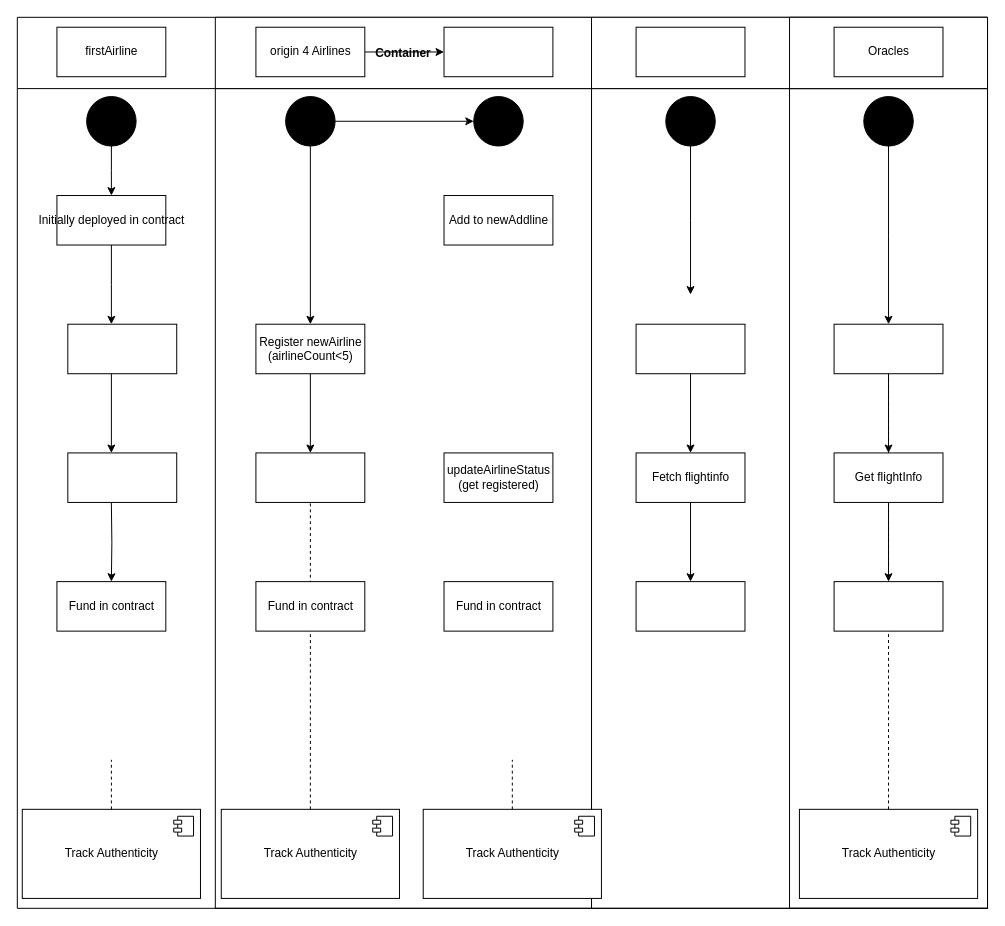
Some shapes in this 1005 by 926 pixel diagram are drawn without their labels. Each missing label, with the centre of its shape:
"Buy insuree" belongs at point (690, 348).
"newAirline" belongs at point (498, 51).
"Passenger" belongs at point (690, 51).
"Register newAirline(airlineCount<5)" belongs at point (122, 348).
"Register Oracle" belongs at point (888, 348).
"Submit response" belongs at point (888, 606).
"Vote newAirline (airlineCount > 4)" belongs at point (310, 477).
"Vote newAirline(airlineCount > 4)" belongs at point (122, 477).
"Withdraw insuree" belongs at point (690, 606).
